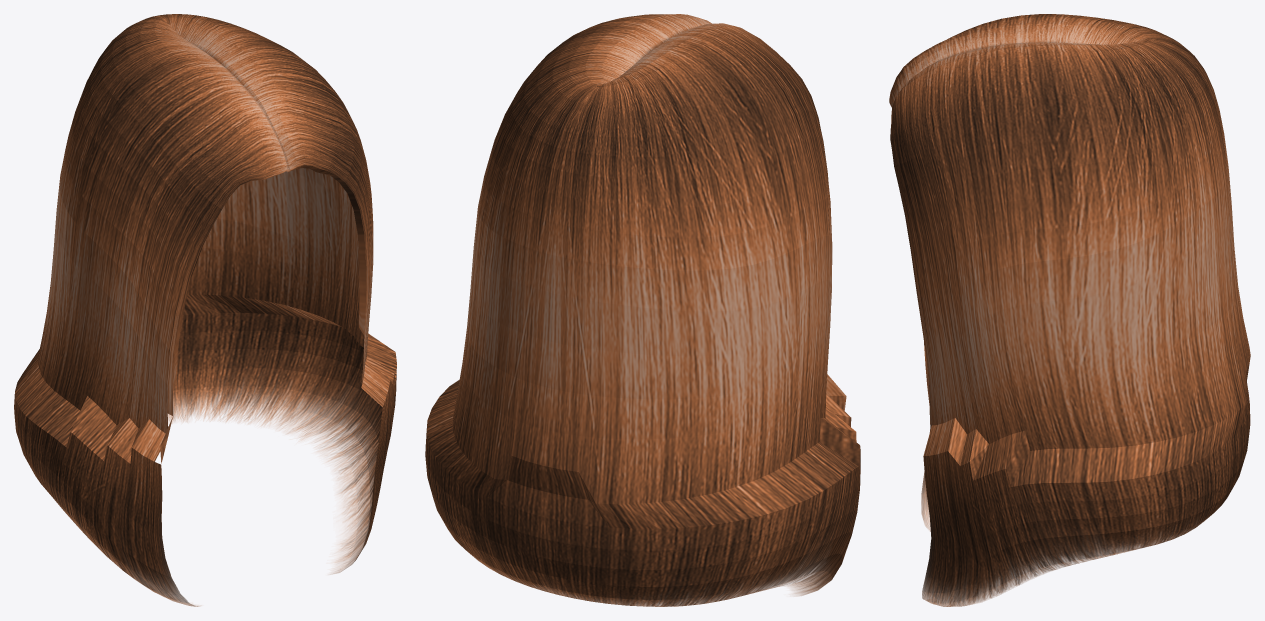
The model's file is feather-cc0.glb.
3 renders of one model, left to right at view 1: azimuth 30°, elevation 25°; view 2: azimuth 150°, elevation 25°; view 3: azimuth 270°, elevation 25°, orthographic. The views are drawn at different scales.
Parts seen in each view (by area): view 1: Node; view 2: Node; view 3: Node.
Part boxes in pixels (x1=…): Node: x1=14, y1=14, x2=396, y2=606; Node: x1=425, y1=14, x2=860, y2=606; Node: x1=889, y1=14, x2=1250, y2=606.
Size of the model in its own units: 2.12 by 2.99 by 1.84.
Materials: 1 (1 with a texture image).
